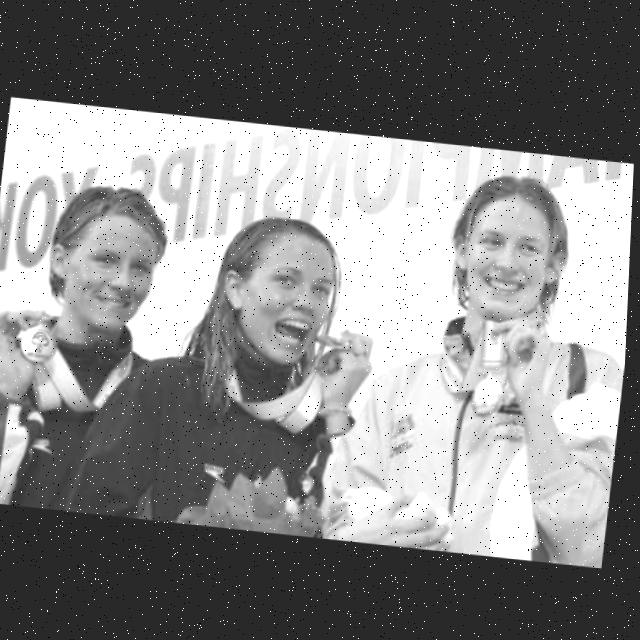face: (213, 222, 348, 384), (36, 202, 163, 343), (453, 188, 565, 323)
